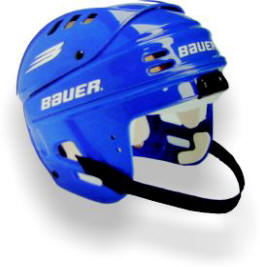helmet: (16, 12, 241, 200)
